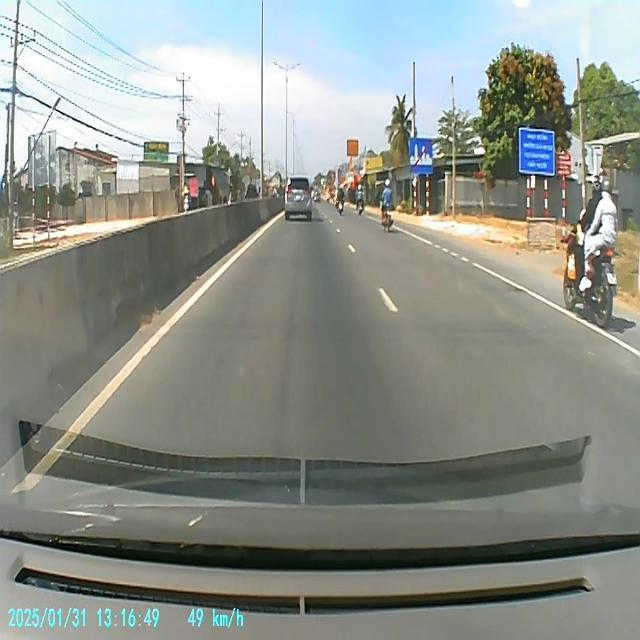421-ket-thuc-khu-dong-dan-cu: (408, 136, 434, 176)
